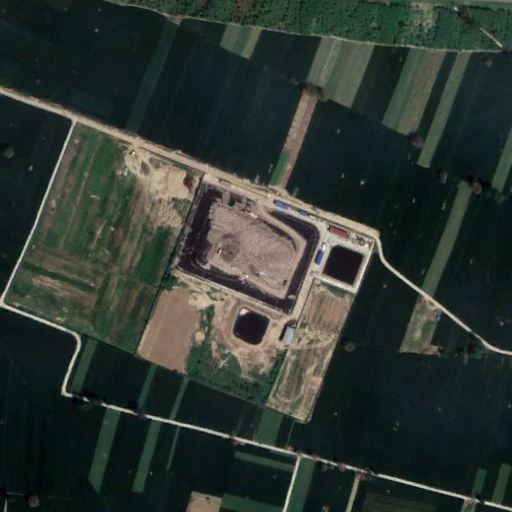lf: (172, 186, 320, 313)
